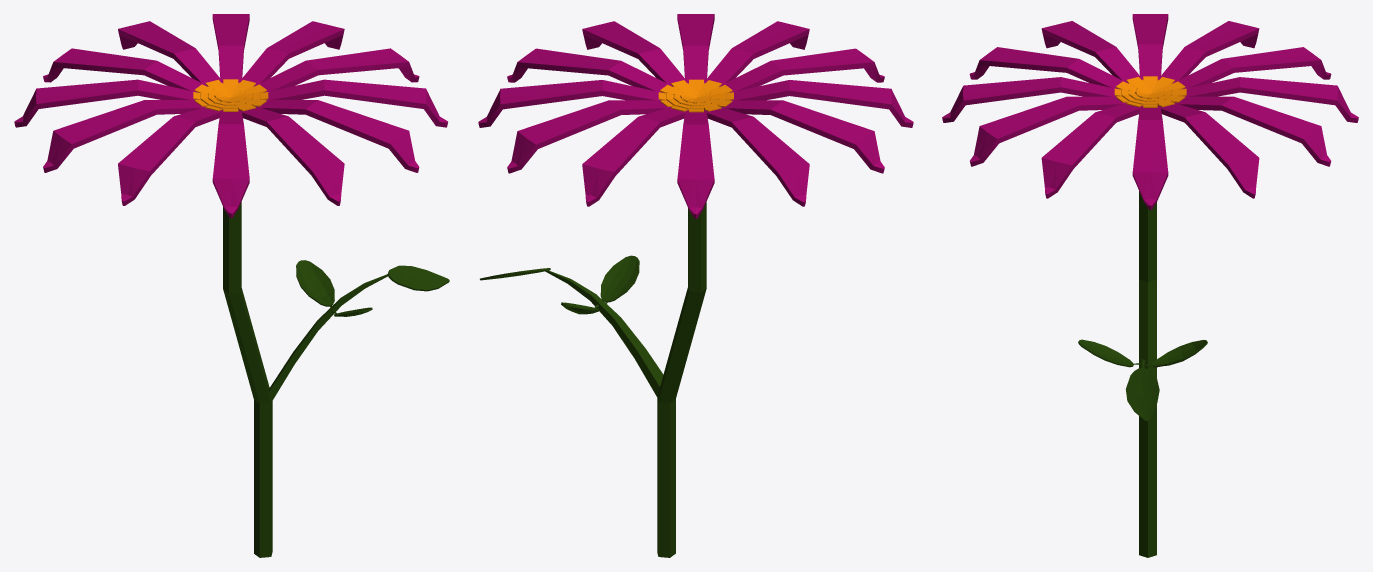
Rendered from Flower_3.FBX.
The picture shows the model from 3 angles, left to right: view 1: azimuth 30°, elevation 25°; view 2: azimuth 150°, elevation 25°; view 3: azimuth 270°, elevation 25°; orthographic projection. The views are drawn at different scales.
Parts seen in each view (by area): view 1: Flower3; view 2: Flower3; view 3: Flower3.
Part boxes in pixels (left/top/right/bottom): Flower3: left=14, top=14, right=449, bottom=557; Flower3: left=478, top=14, right=913, bottom=557; Flower3: left=942, top=14, right=1358, bottom=557.
Size of the model in its own units: 55.21 by 62 by 51.26.
